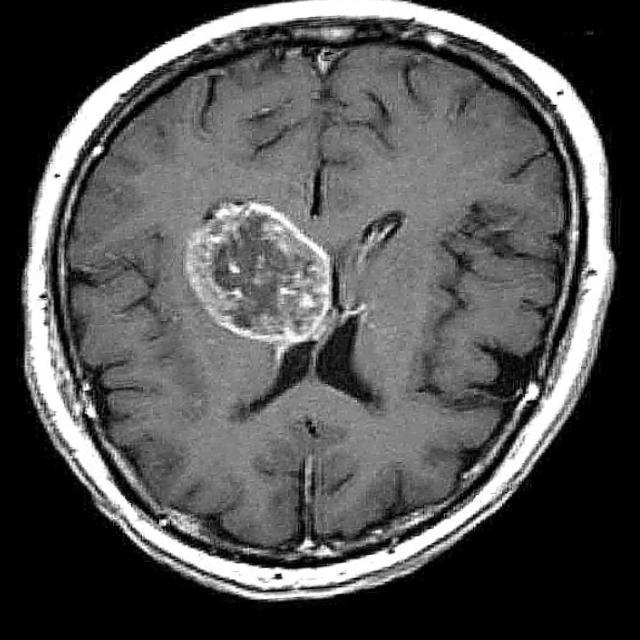Tumor: (183, 192, 345, 351)
